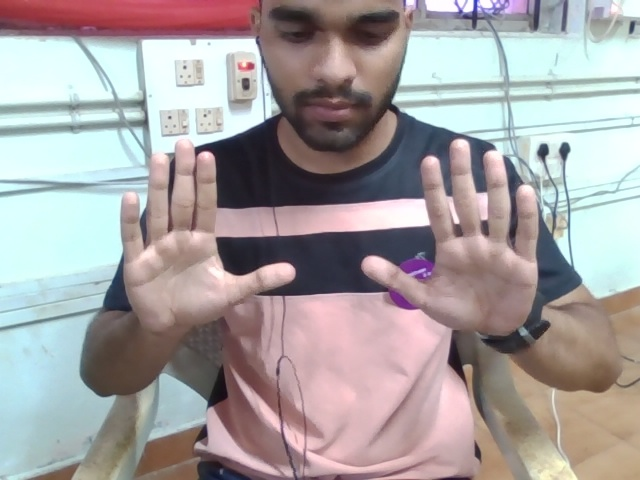All done: (104, 130, 558, 372)
